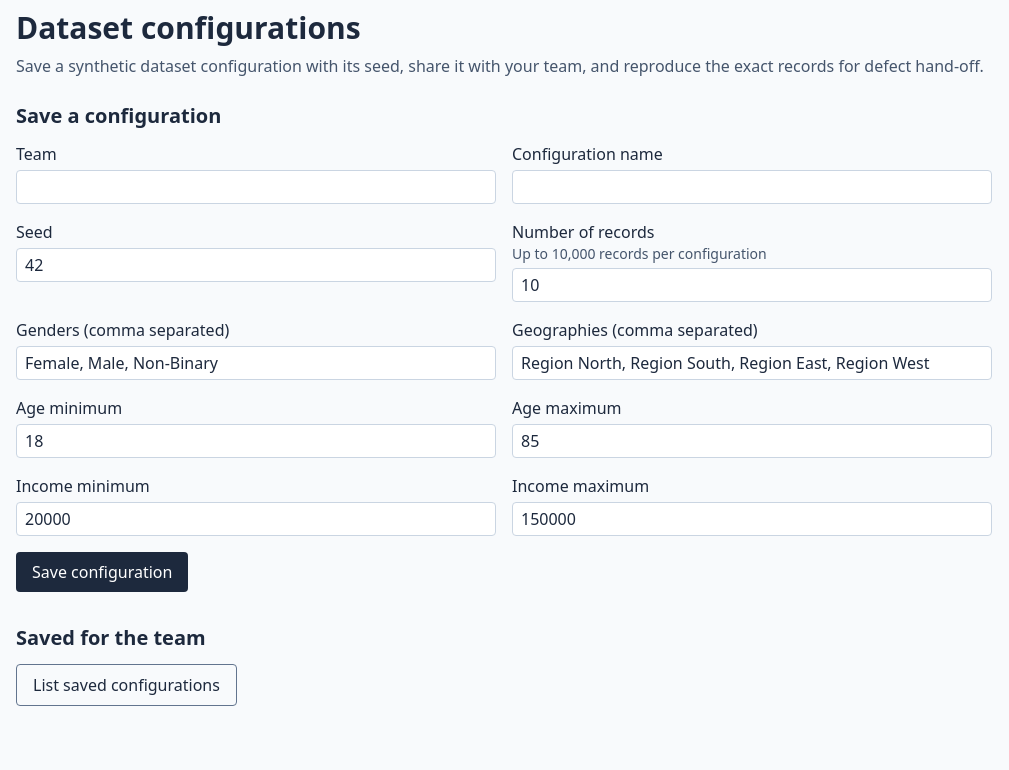
Test case: DatasetConfigurationsPage › announces a record count above the maximum instead of sending it
Type "atlas" into the field labelled "Team" at (256, 187), box [16,170,496,204]
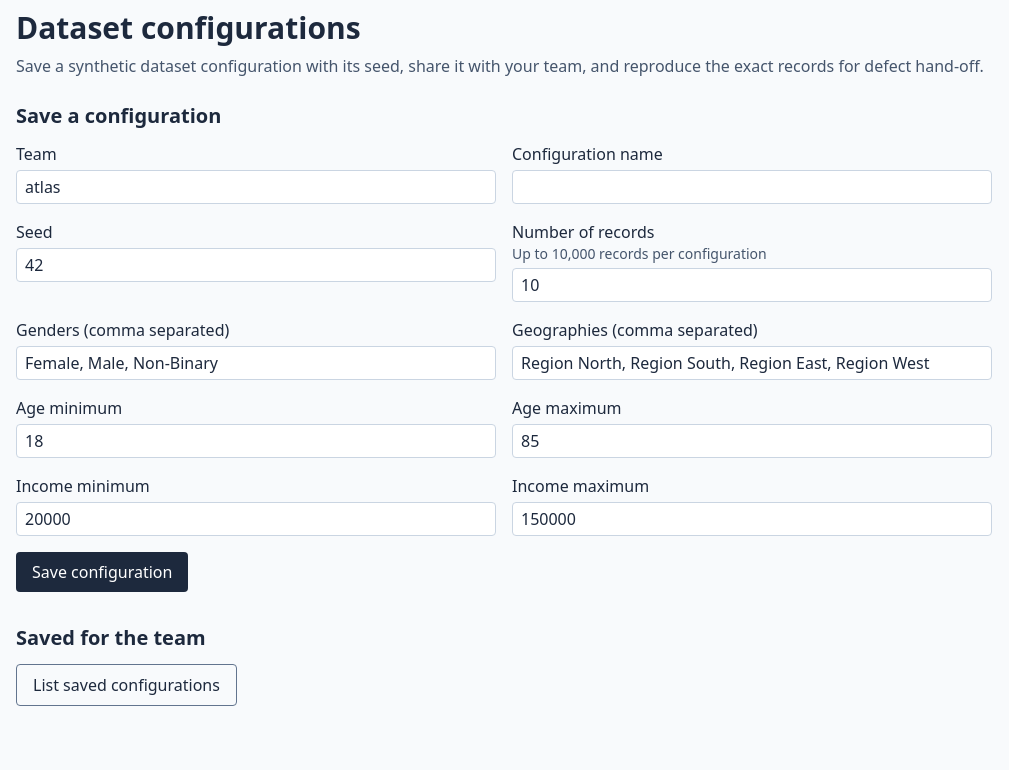
Type "atlas-baseline" into the field labelled "Configuration name" at (752, 187), box [512,170,992,204]
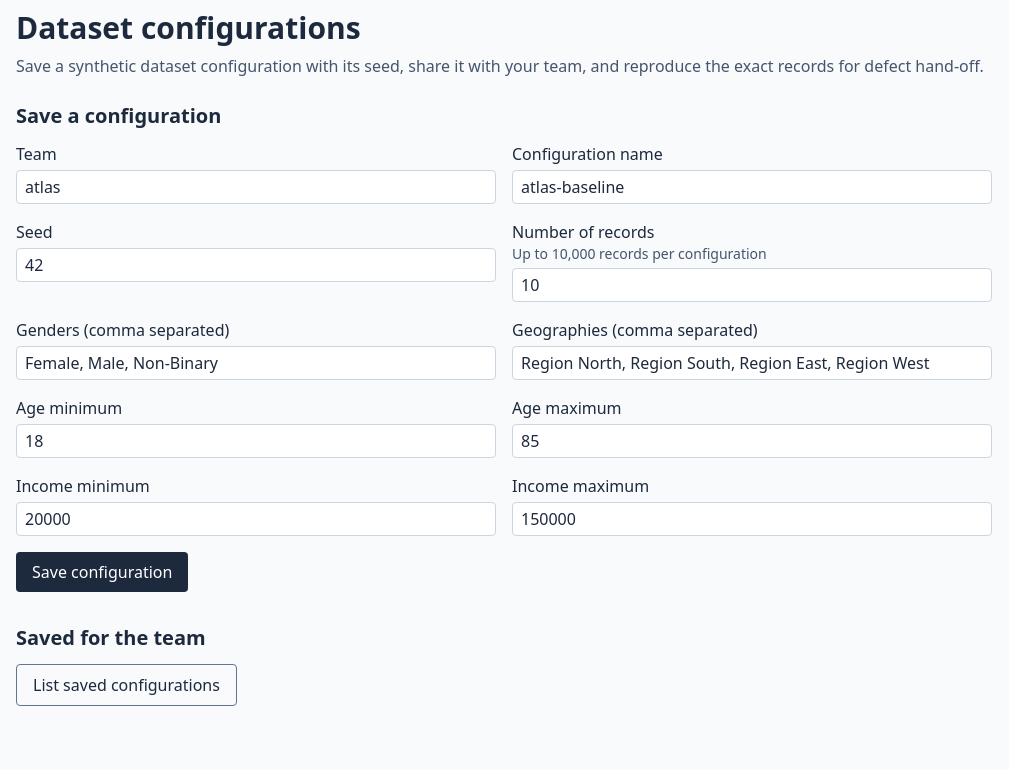
Replace the text in the number field labelled "Number of records" with "999999999" at (752, 285), box [512,268,992,302]
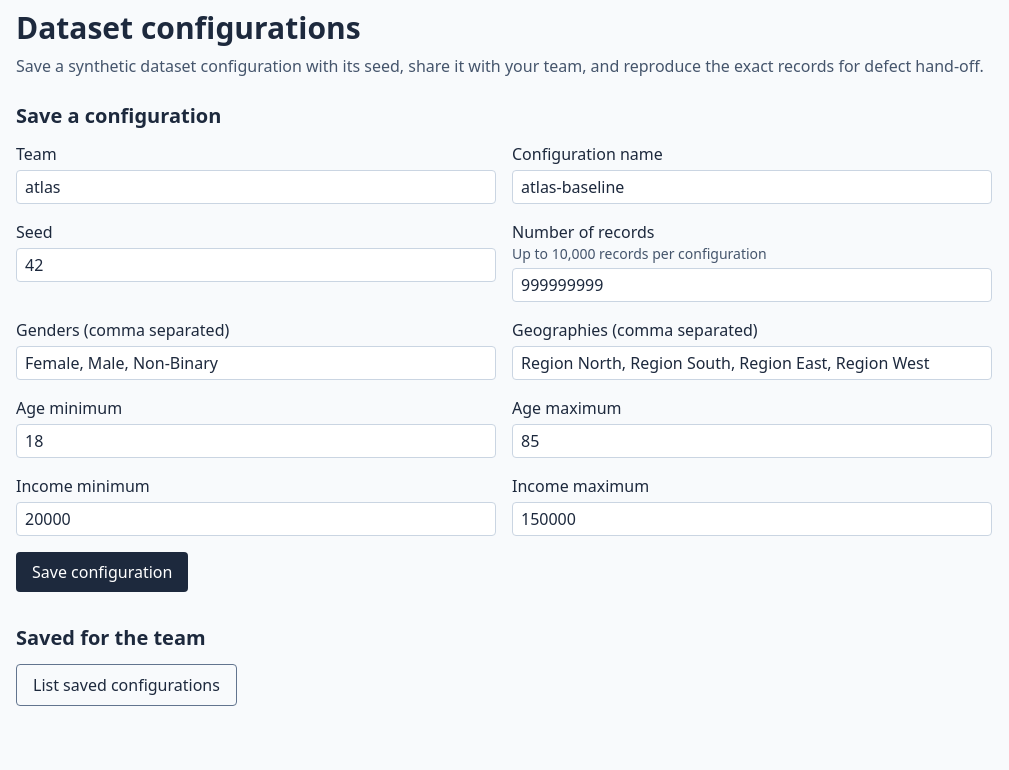
Click the button "Save configuration" at (102, 572), box [16,552,188,592]
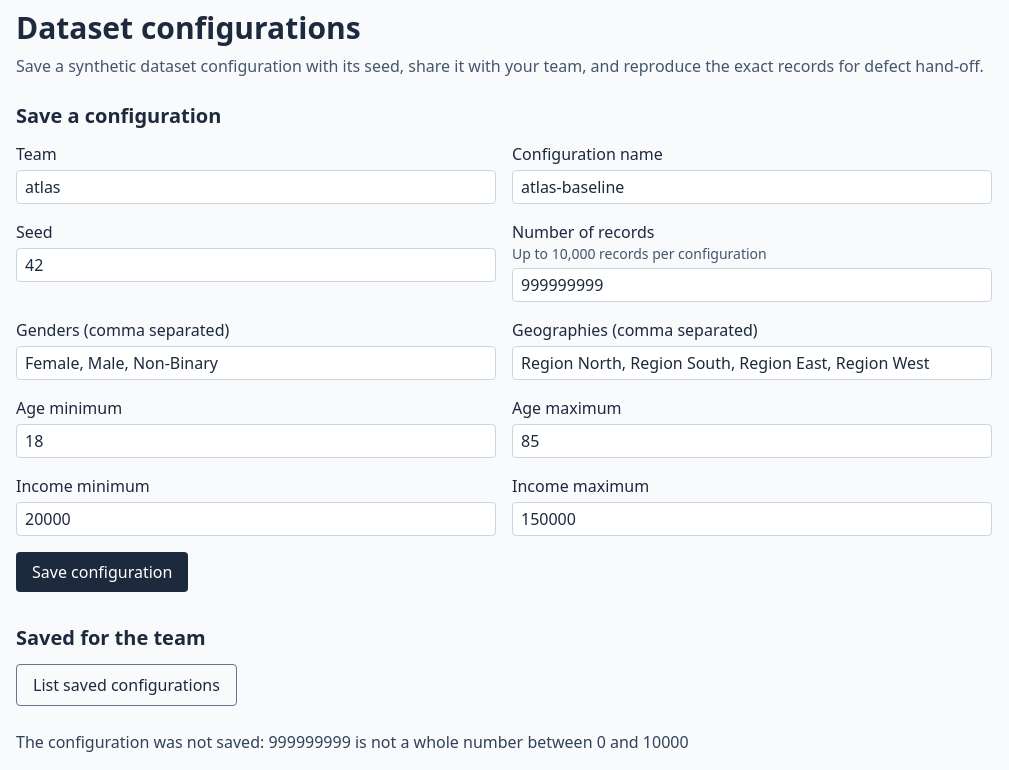
Now the text "not a whole number between 0 and" is shown, box [16,731,689,753]
